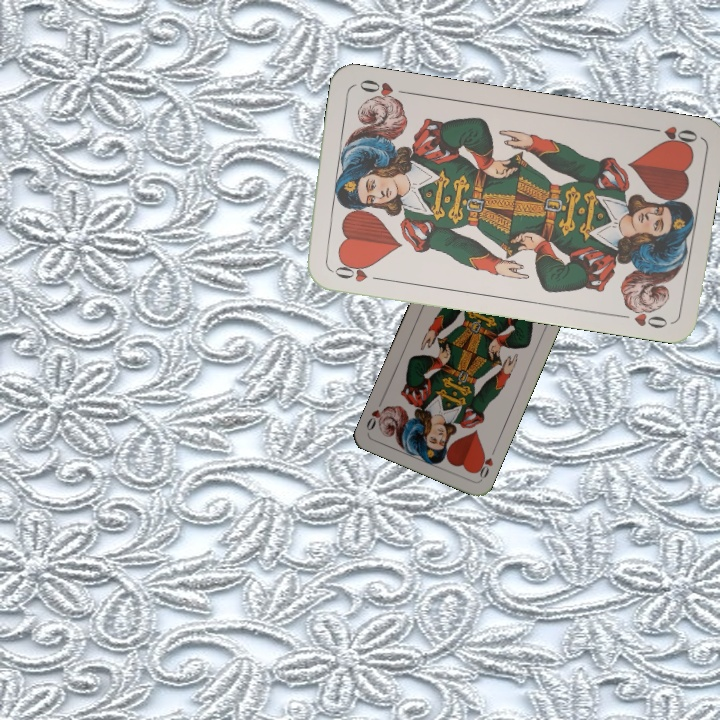HO: (326, 257, 385, 285), (641, 122, 700, 150), (472, 443, 498, 482)
